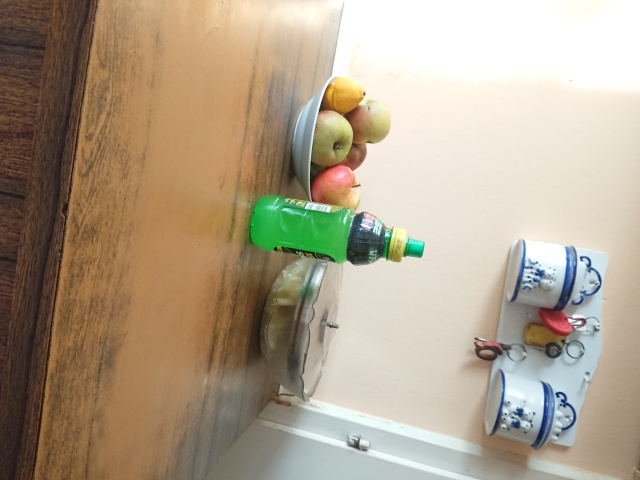Vindi Iso Sport Lemon-Grapefruit 500mL: (246, 191, 427, 269)
